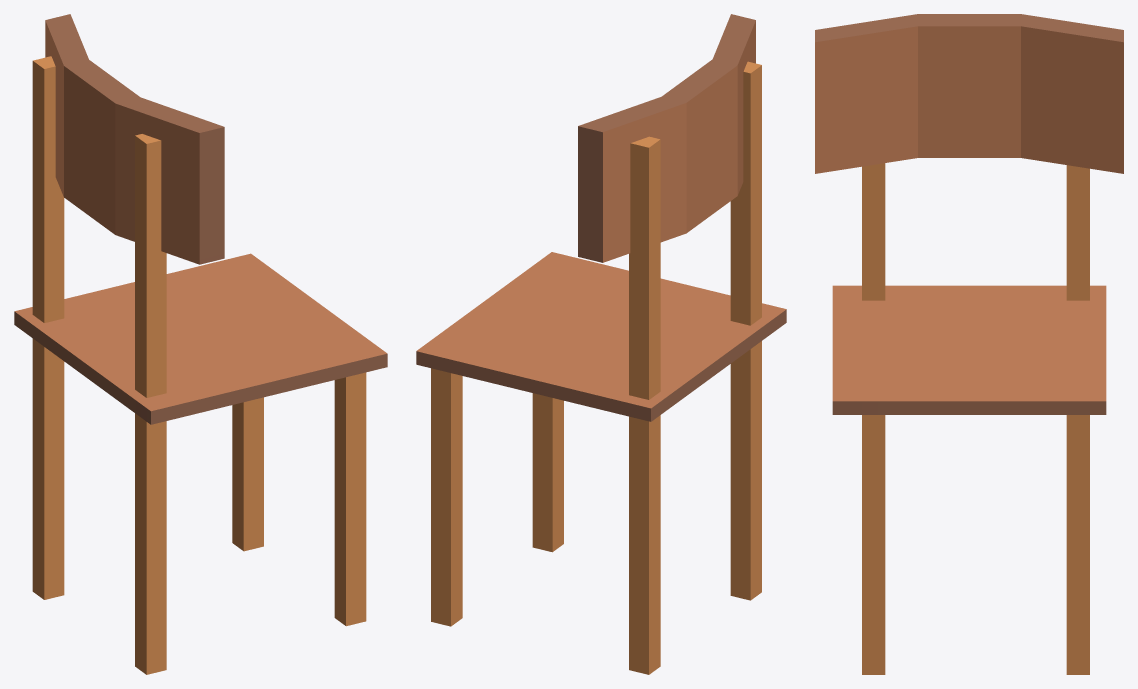
File: Chair_03.glb
The picture shows the model from 3 angles, left to right: view 1: azimuth 30°, elevation 25°; view 2: azimuth 150°, elevation 25°; view 3: azimuth 270°, elevation 25°; orthographic projection.
Parts seen in each view (by area): view 1: Chair_03; view 2: Chair_03; view 3: Chair_03.
Part boxes in pixels (x1,y1,x2,y2): Chair_03: (14, 14, 387, 674); Chair_03: (416, 14, 786, 674); Chair_03: (815, 14, 1123, 674).
Size of what is drawn, in the model's own units: 0.5131 by 1.14 by 0.5796.
Materials: 1 (1 with a texture image).
